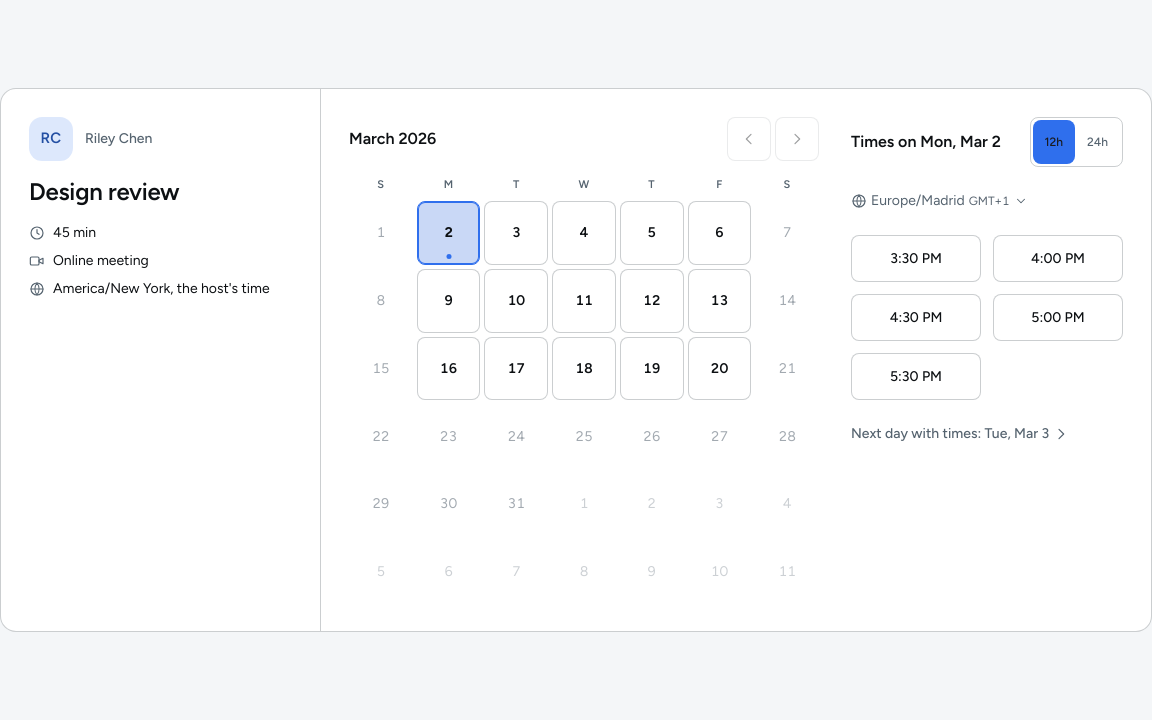
Test: the zone the times open in › never overwrites a zone the visitor picked
The width and height of the screenshot is (1152, 720).
What coordinates should you click on to do the following:
click the button "Europe/Madrid GMT+1"
I would click on:
 (939, 201)
Its box is [851,179,1028,223].
(page scrolled)
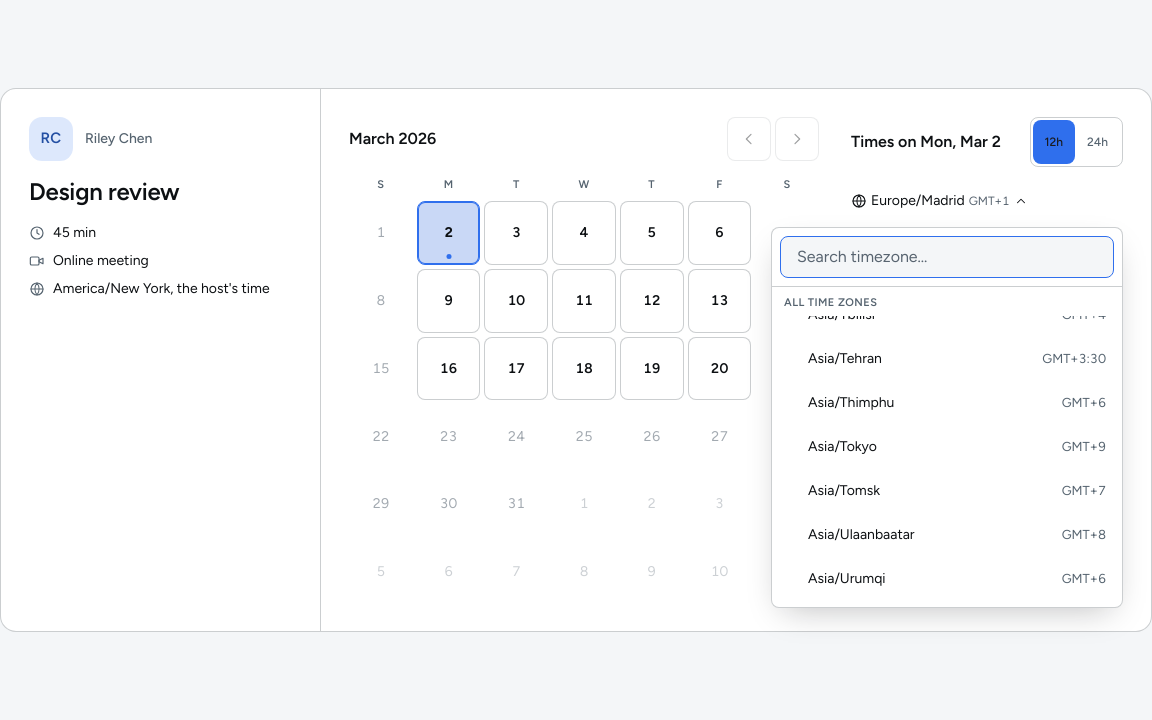
What coordinates should you click on to do the following:
click the option "Asia/Tokyo GMT+9"
I would click on:
 (842, 447)
Its box is [808,438,1106,455].
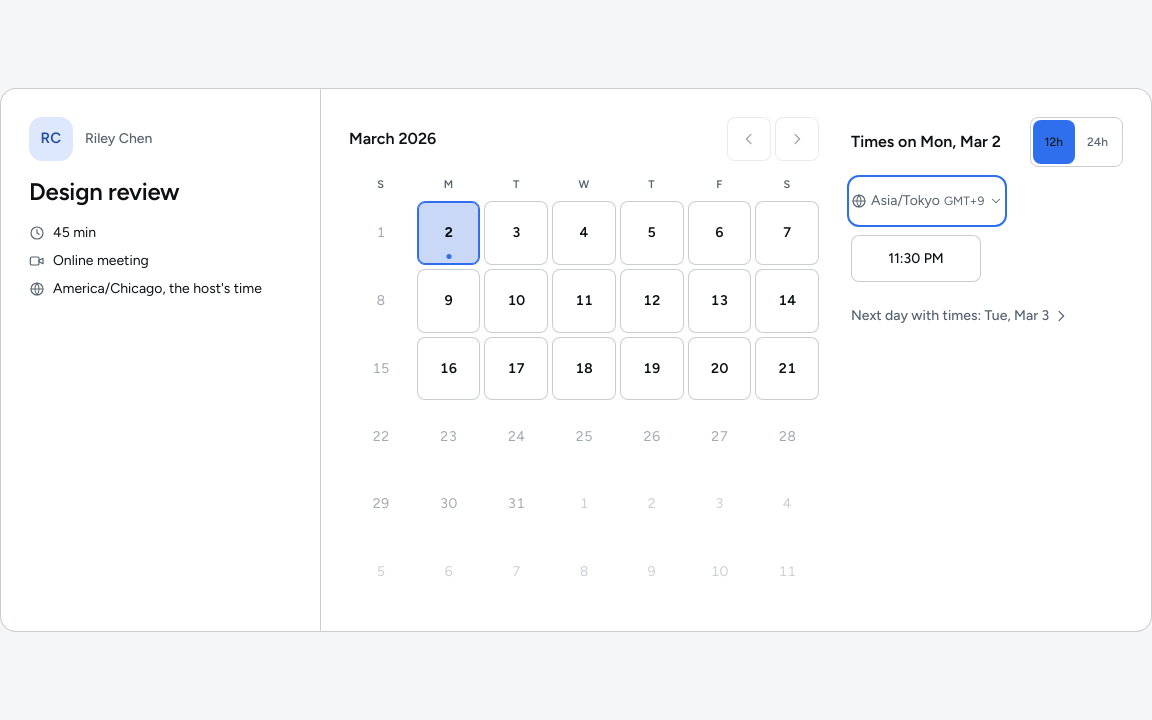
Expected: the button "Asia/Tokyo GMT+9" is shown, [851,179,1003,223]
